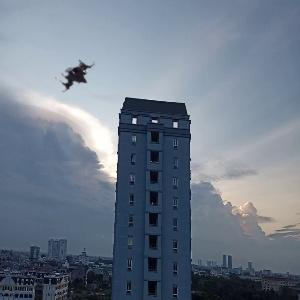drone: (52, 51, 102, 101)
